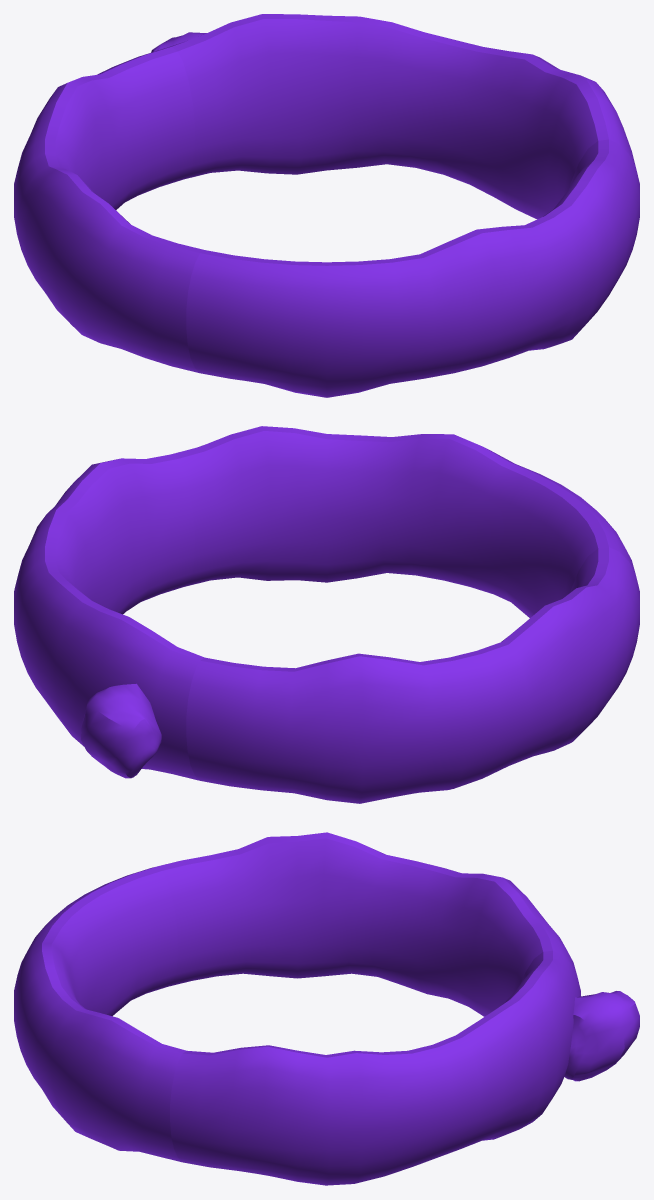
File: Ring.fbx
3 views of the same model, one above another, from view 1: azimuth 30°, elevation 25°; view 2: azimuth 150°, elevation 25°; view 3: azimuth 270°, elevation 25° (orthographic). The views are drawn at different scales.
Parts seen in each view (by area): view 1: Ring Part 1.002, Ring Part 2.002, Ring Part 3.002; view 2: Ring Part 3.002, Ring Part 2.002, Ring Part 1.002, Ring Part 1.; view 3: Ring Part 1.002, Ring Part 3.002, Ring Part 2.002, Ring Part 1..
Part boxes in pixels (x1,y1,x2,y2): Ring Part 1.002: (168, 14, 635, 219); Ring Part 2.002: (186, 139, 639, 397); Ring Part 3.002: (14, 46, 204, 373); Ring Part 3.002: (186, 547, 639, 803); Ring Part 2.002: (172, 426, 635, 617); Ring Part 1.002: (14, 454, 204, 780); Ring Part 1.: (81, 683, 161, 778); Ring Part 1.002: (170, 950, 580, 1185); Ring Part 3.002: (157, 832, 576, 1016); Ring Part 2.002: (14, 866, 186, 1162); Ring Part 1.: (564, 991, 639, 1081).
Bounding box in the file's own units: 263 × 73.83 × 290.
